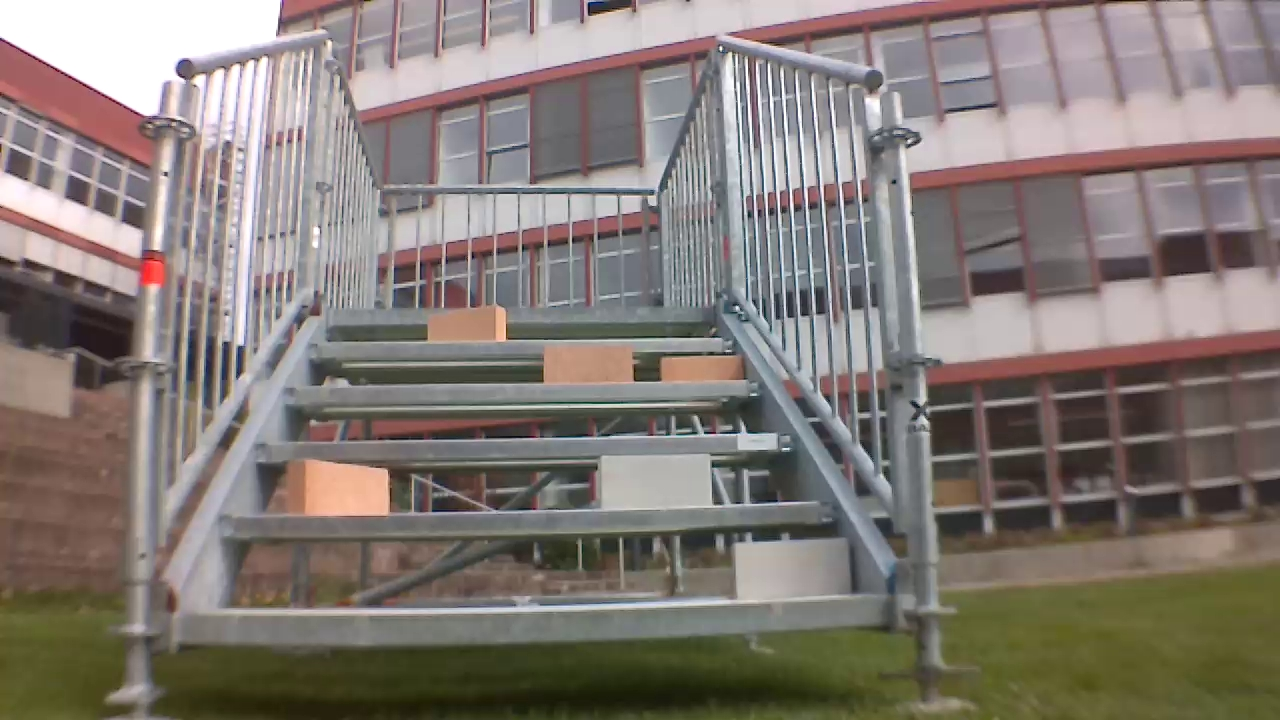brick: (731, 540, 849, 597), (598, 454, 710, 505), (286, 459, 388, 514), (544, 346, 632, 382), (428, 308, 504, 340), (662, 356, 742, 381)
edge: (177, 594, 895, 643), (220, 503, 838, 534), (257, 432, 797, 460), (287, 379, 763, 402), (306, 339, 734, 357), (329, 306, 719, 323)
stairs: (109, 27, 958, 715)
steps: (166, 303, 900, 652)
